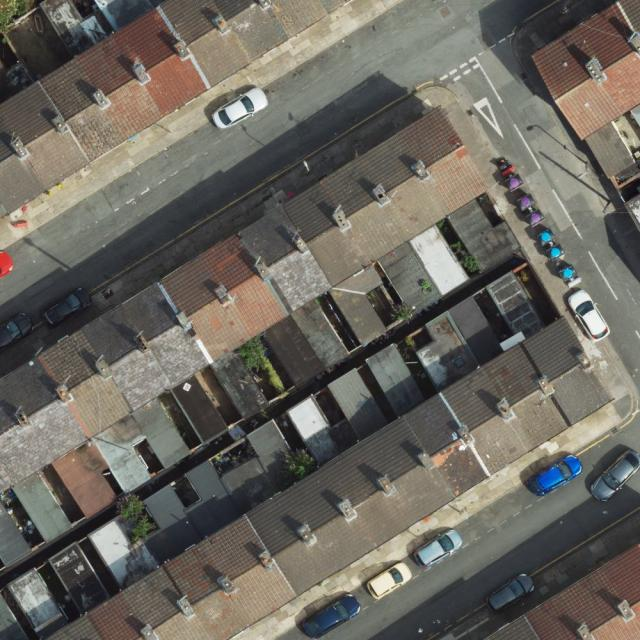roof: (0, 104, 522, 544), (6, 271, 614, 640), (0, 0, 356, 218), (533, 1, 640, 179), (484, 543, 640, 639), (0, 501, 31, 567), (0, 593, 29, 640)
skylight: (453, 355, 468, 370)
